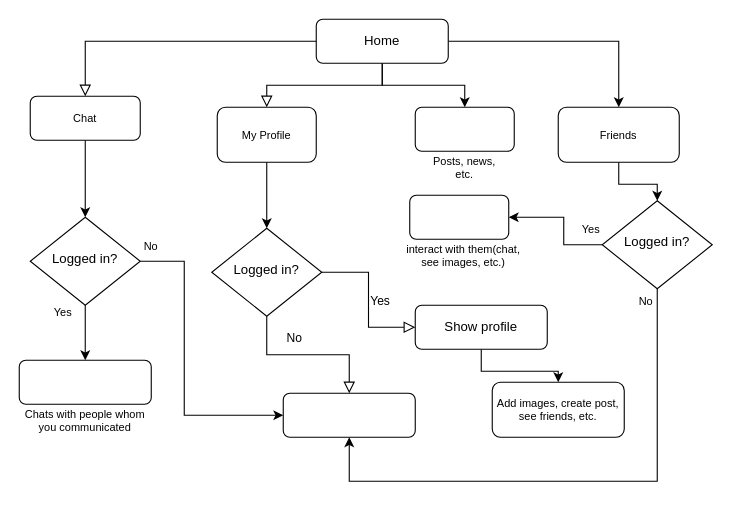
Some shapes in this 732 by 509 pixel diagram are drawn without their labels. The shapes that lost their labels are listed below. From the top down, each one's centre as x and y in pixels, then its label:
At (464,128): "News".
At (459,216): "Show friends".
At (84,381): "Show messages".
At (348,414): "Sign up/Sign in form".
